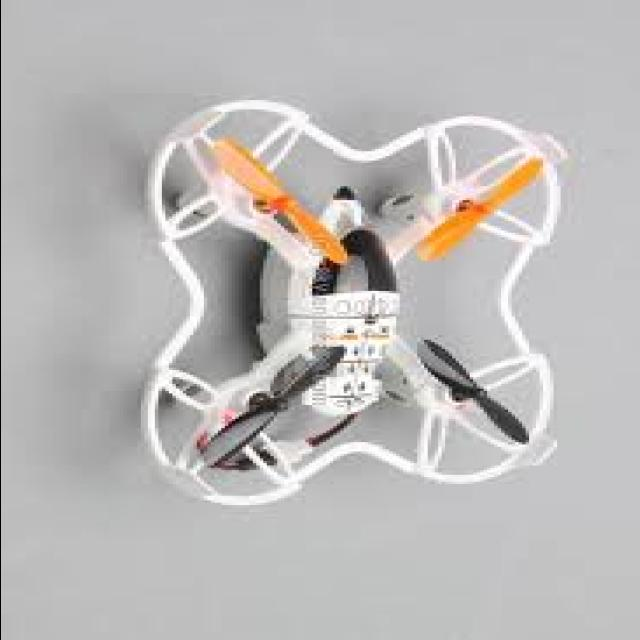drone: (117, 91, 582, 535)
